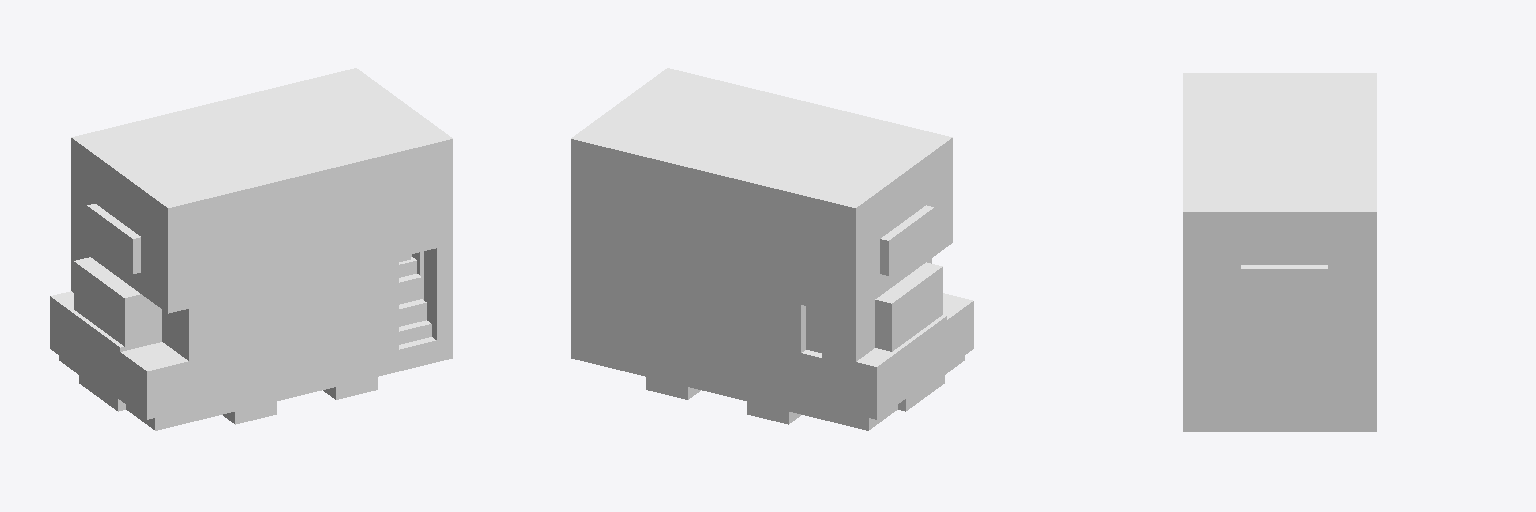
File: CrossyRoad_Bus.obj
3 views of the same model, side by side, from view 1: azimuth 30°, elevation 25°; view 2: azimuth 150°, elevation 25°; view 3: azimuth 270°, elevation 25° (orthographic).
Visible parts, largest first — view 1: object 1; view 2: object 1; view 3: object 1.
Part boxes in pixels (bbox=[...]): object 1: bbox=[50, 68, 452, 430]; object 1: bbox=[571, 68, 973, 430]; object 1: bbox=[1183, 73, 1376, 431].
Size of the model in its own units: 7.5 by 5.3 by 4.